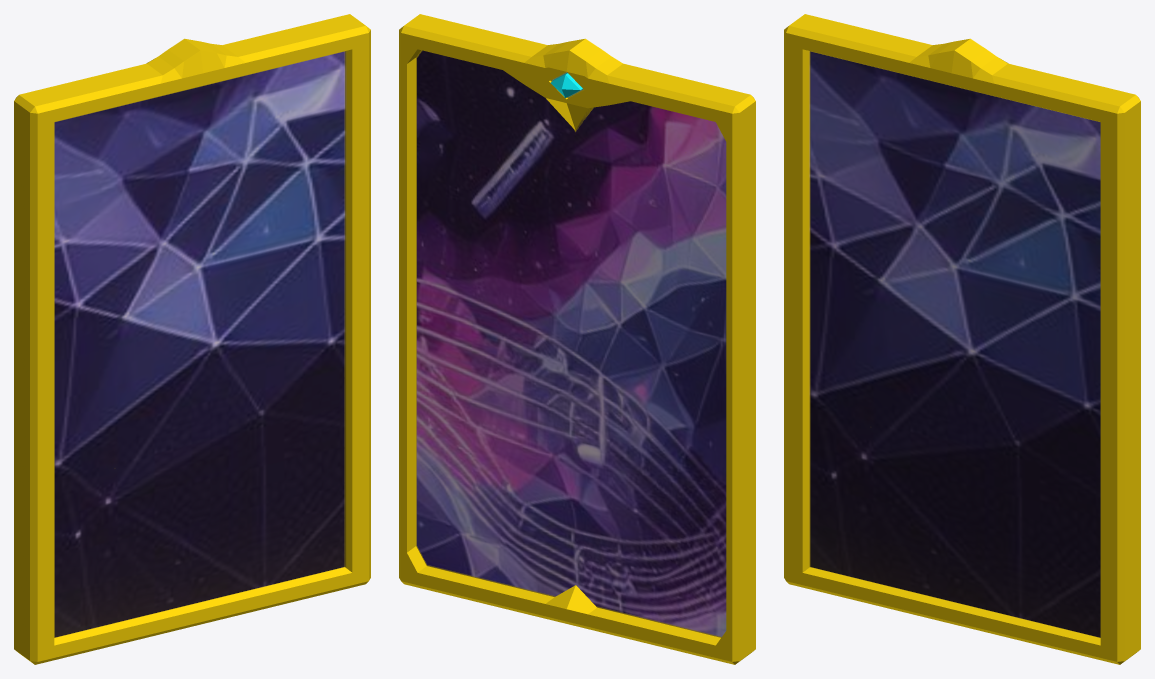
Rendered from CARD.fbx.
3 renders of one model, left to right at view 1: azimuth 30°, elevation 25°; view 2: azimuth 150°, elevation 25°; view 3: azimuth 330°, elevation 25°, orthographic.
Visible parts, largest first — view 1: Cube; view 2: Cube; view 3: Cube.
Boxes of the visible parts, box(x1,y1,x2,y2) form: Cube: box(14, 14, 370, 664); Cube: box(399, 14, 755, 664); Cube: box(784, 14, 1140, 664).
Size of the model in its own units: 868 by 1397 by 118.
1 material, 1 textured.
